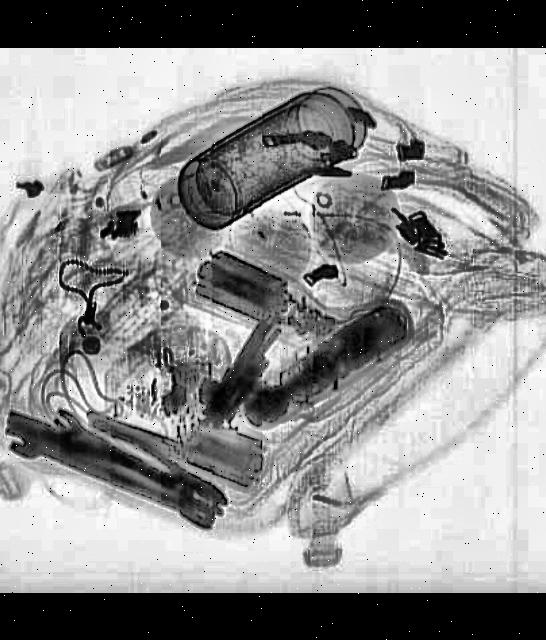Pliers: (72, 411, 240, 519)
Wrench: (0, 424, 224, 534)
